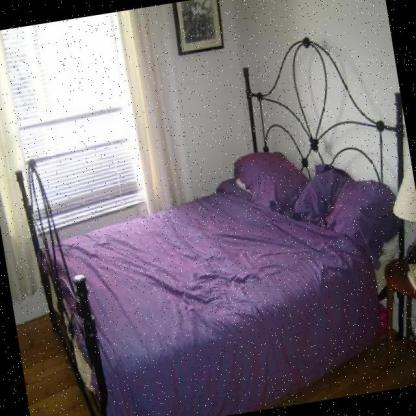Bed: (0, 51, 416, 416)
